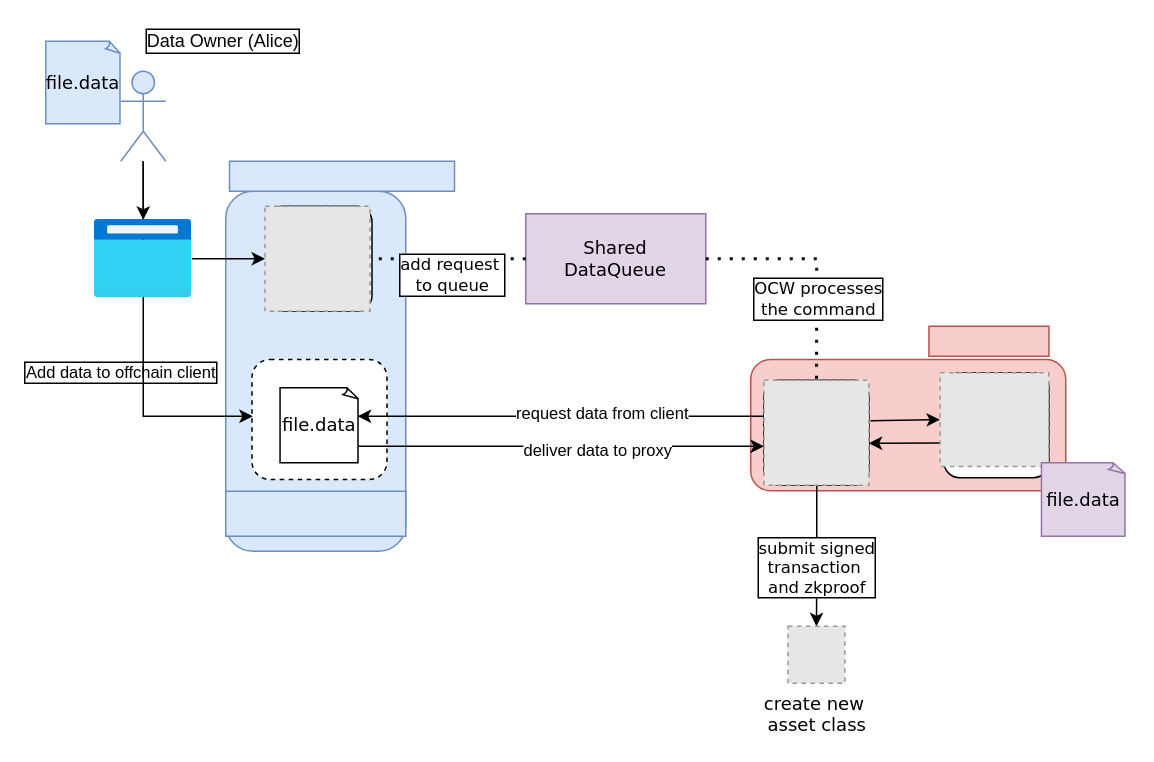
The diagram is 1154 pixels wide and 762 high, and some of its shapes have lost their labels. Grey dashed boxes stand in for pictures. The box of each missing label's shape, as (x1, y1, x2, y2) in pixels:
Iris Node (data owner): (228, 160, 454, 191)
offchain data owner client: (224, 490, 406, 536)
Proxy Node: (927, 325, 1049, 356)
